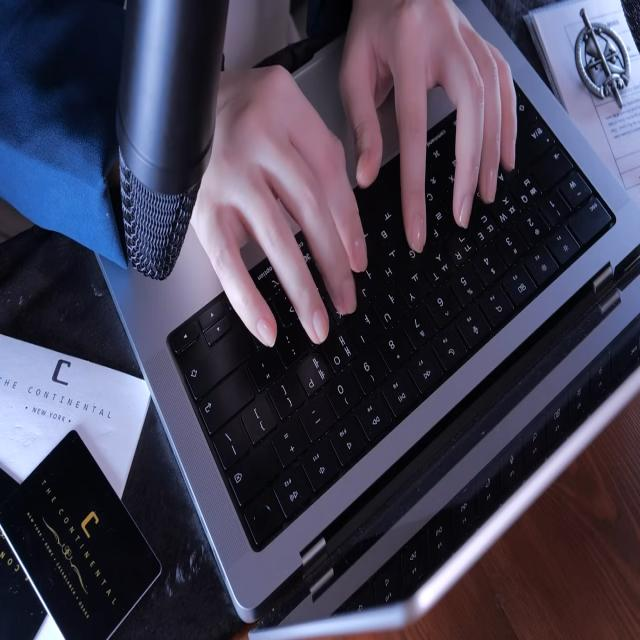keyboard-with-hands: (164, 68, 617, 559)
